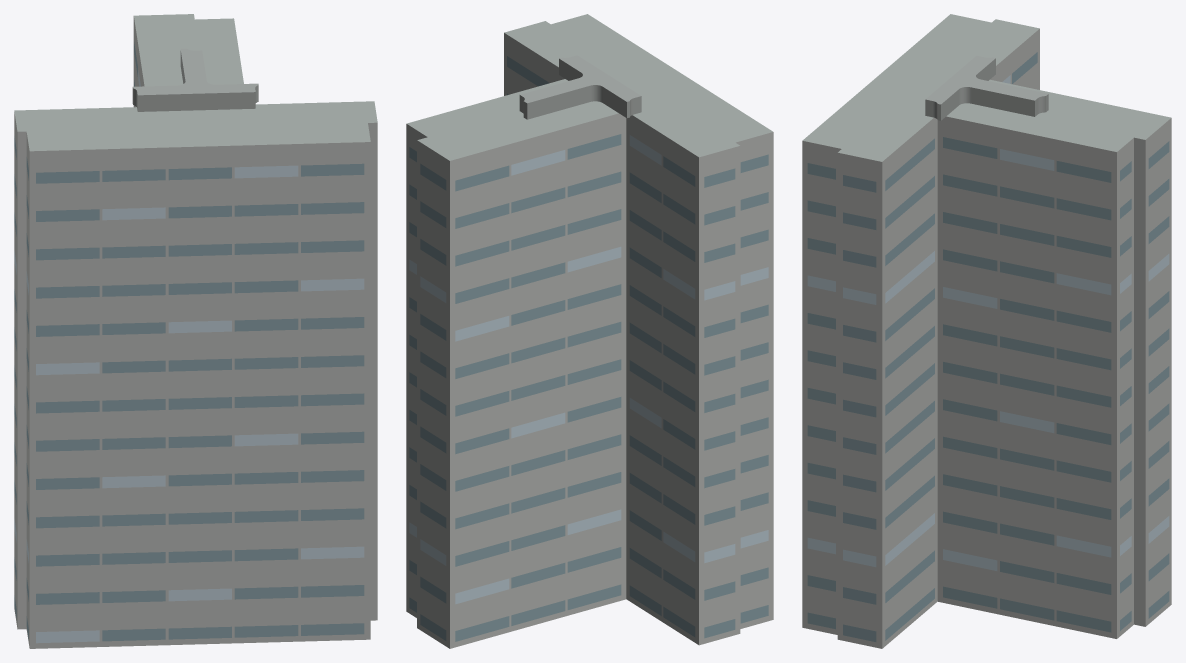
The model's file is fallback-prestige-121.glb.
3 renders of one model, left to right at view 1: azimuth 30°, elevation 25°; view 2: azimuth 150°, elevation 25°; view 3: azimuth 270°, elevation 25°, orthographic. The views are drawn at different scales.
Visible parts, largest first — view 1: fallback-prestige-121; view 2: fallback-prestige-121; view 3: fallback-prestige-121.
Part boxes in pixels (x1,y1,x2,y2): fallback-prestige-121: [14, 14, 377, 648]; fallback-prestige-121: [406, 14, 773, 648]; fallback-prestige-121: [802, 14, 1171, 648].
Bounding box in the file's own units: 46.66 × 74 × 49.21.
